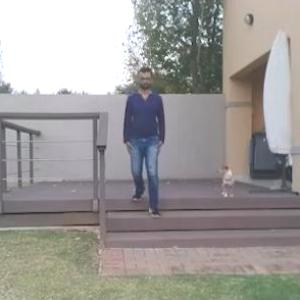follow: (121, 66, 160, 220)
